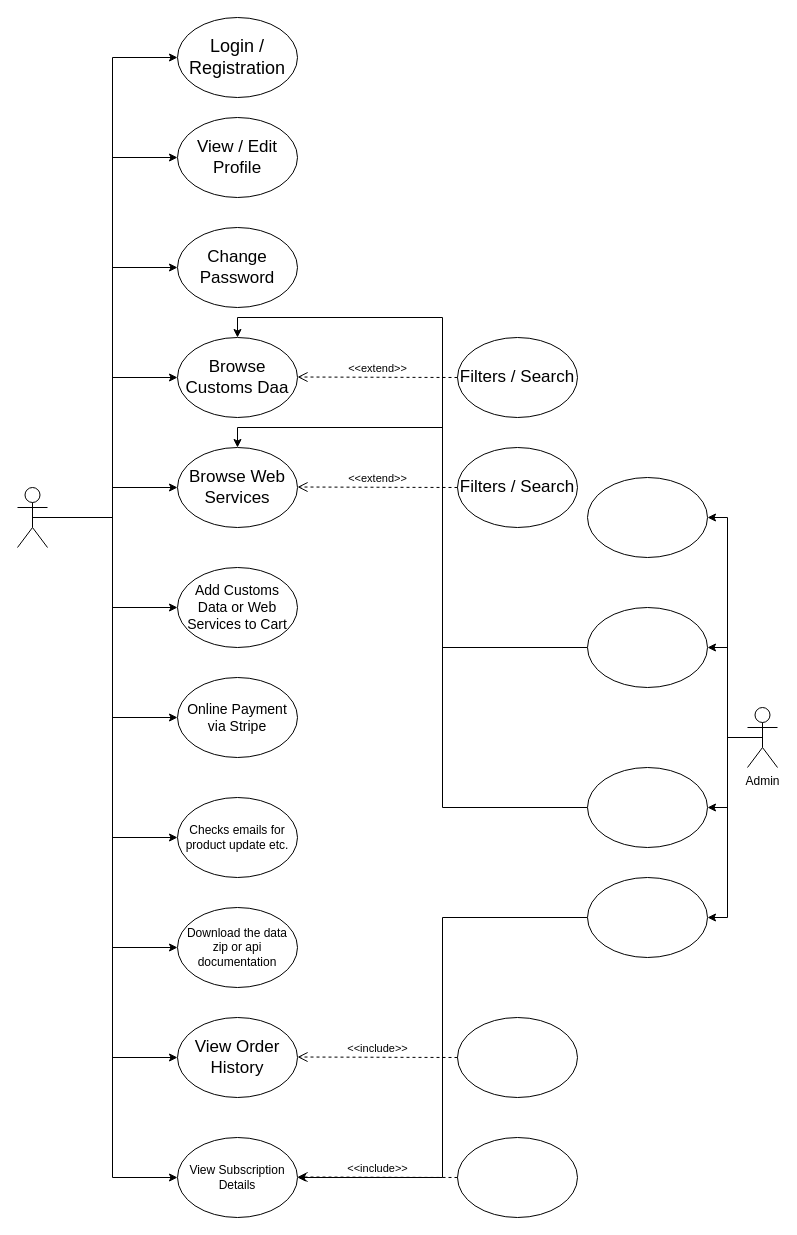
Some shapes in this 797 by 1235 pixel diagram are drawn without their labels. The centre of each missing label's shape, as x and y in pixels:
Do Entry of API call count and SBU Code of Customer: [647,917]
Download zip and api documentation: [517,1177]
Insertion of the Customs Data: [647,647]
Insertion of the Web Services Detail: [647,807]
Invoice Download: [517,1057]
Update the Custom Data Zip: [647,517]
User: [32,517]
